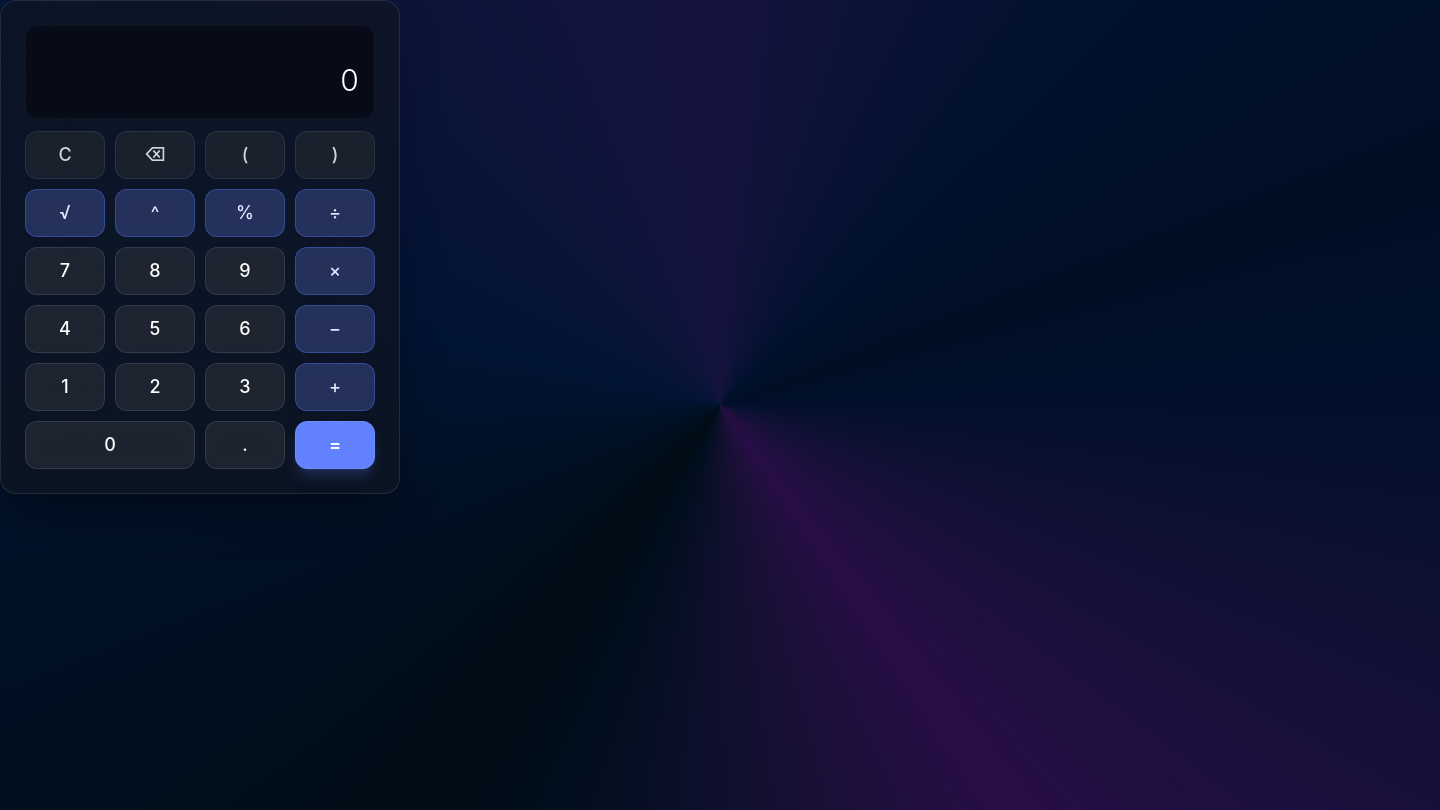
Scenario: Calculator › full calculation flow: 5 + 3 * 2 = 11
Click the button "5" at (155, 329), box x1=115 y1=305 x2=195 y2=353
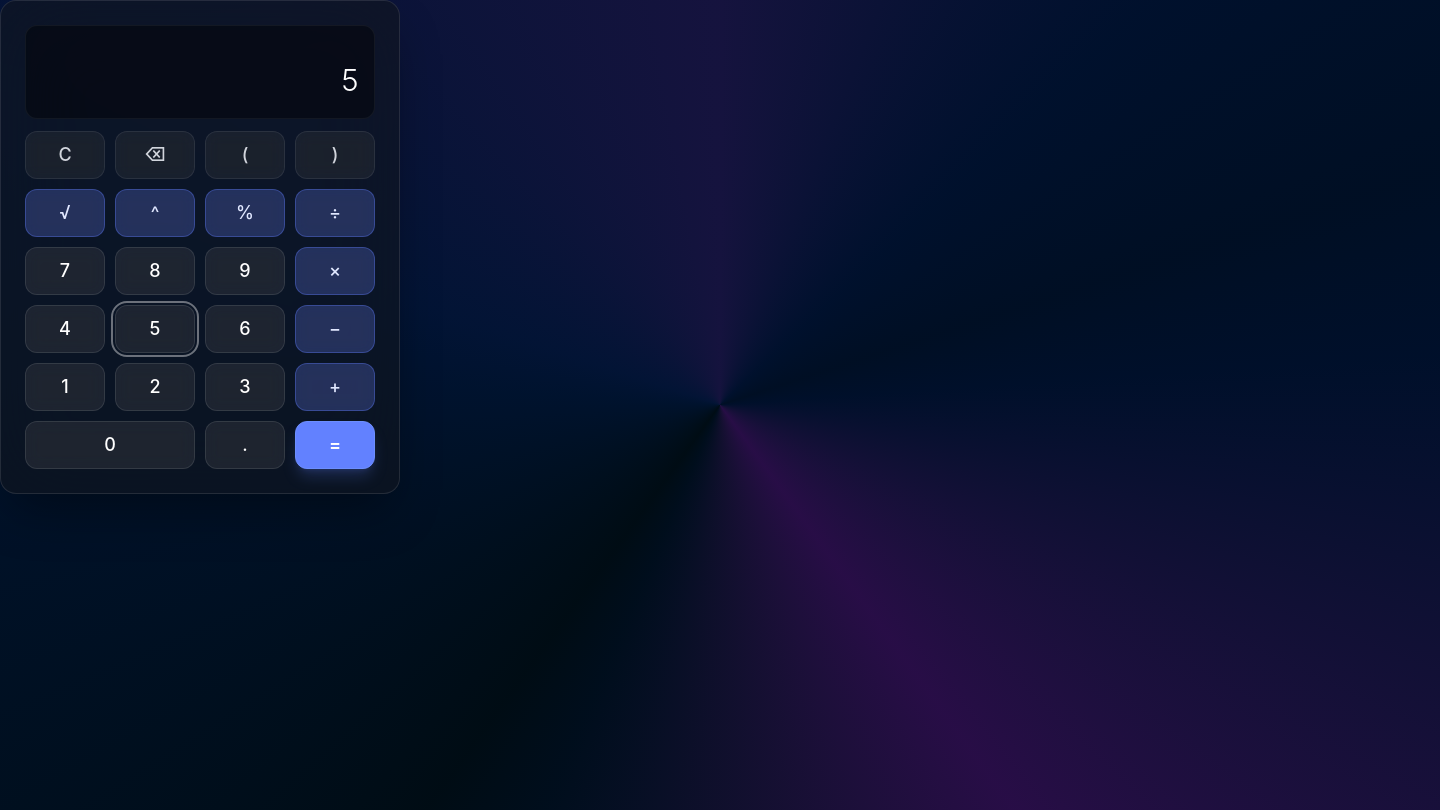
Click the button "+" at (335, 387), box x1=295 y1=363 x2=375 y2=411
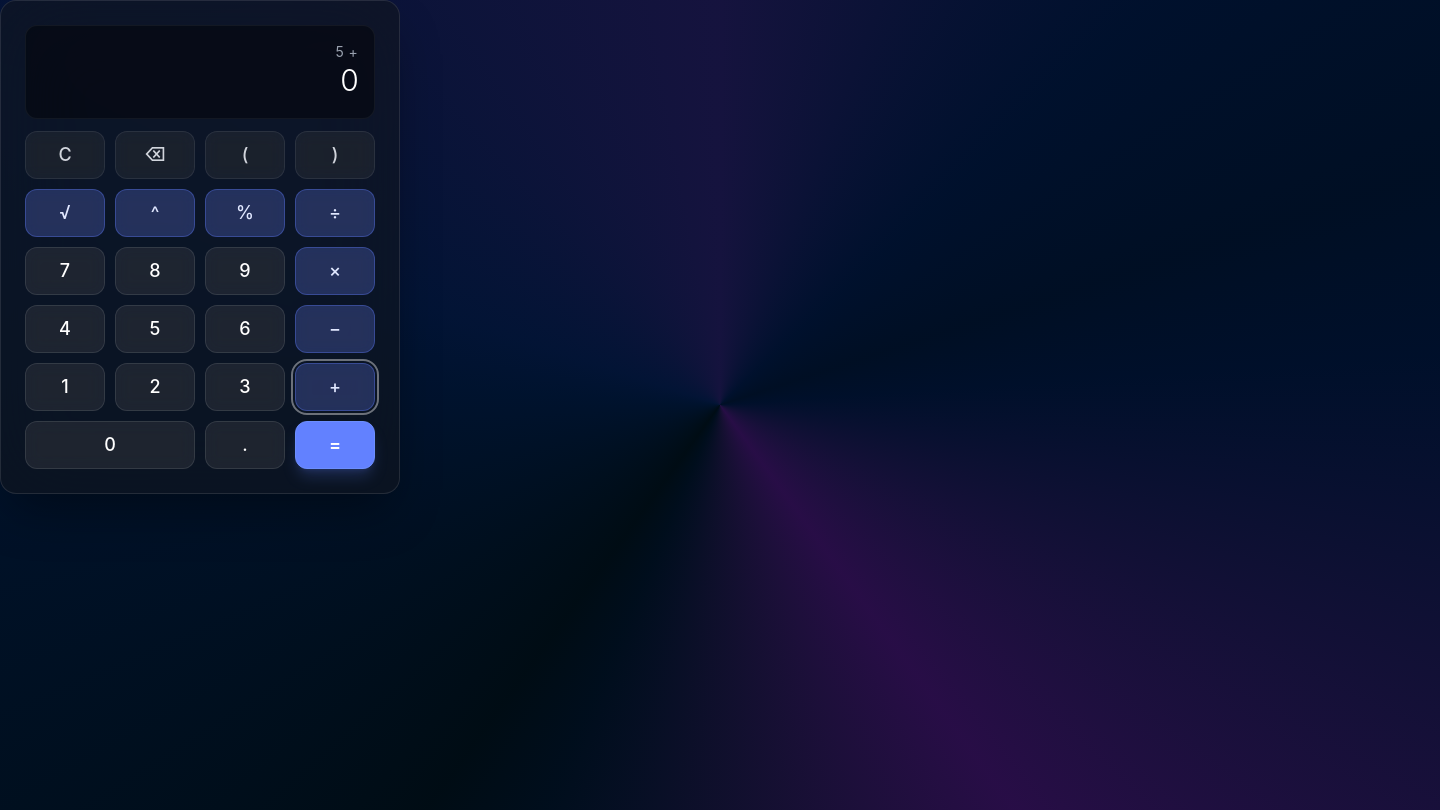
Click the button "3" at (245, 387), box x1=205 y1=363 x2=285 y2=411
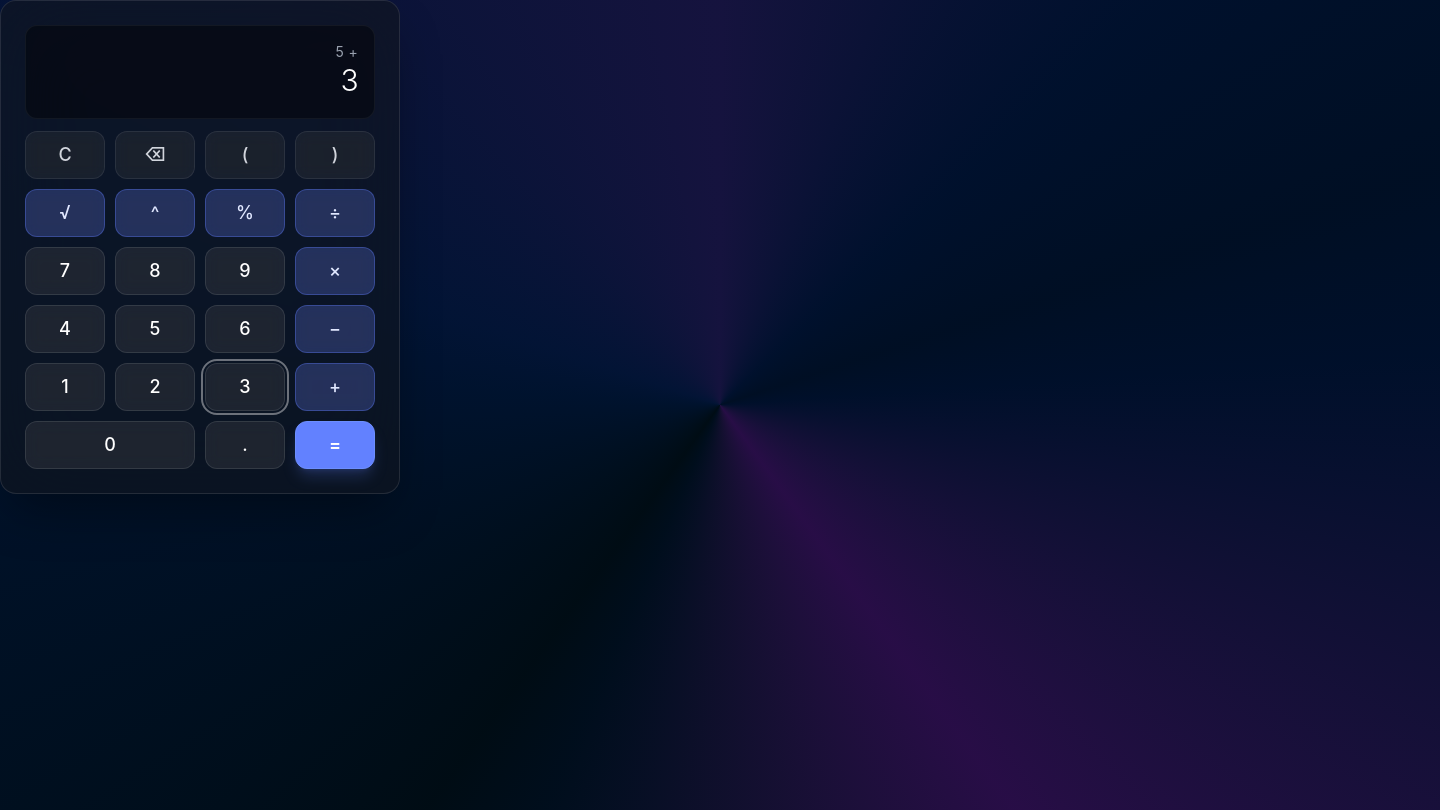
Click the button named "multiply" at (335, 271), box x1=295 y1=247 x2=375 y2=295
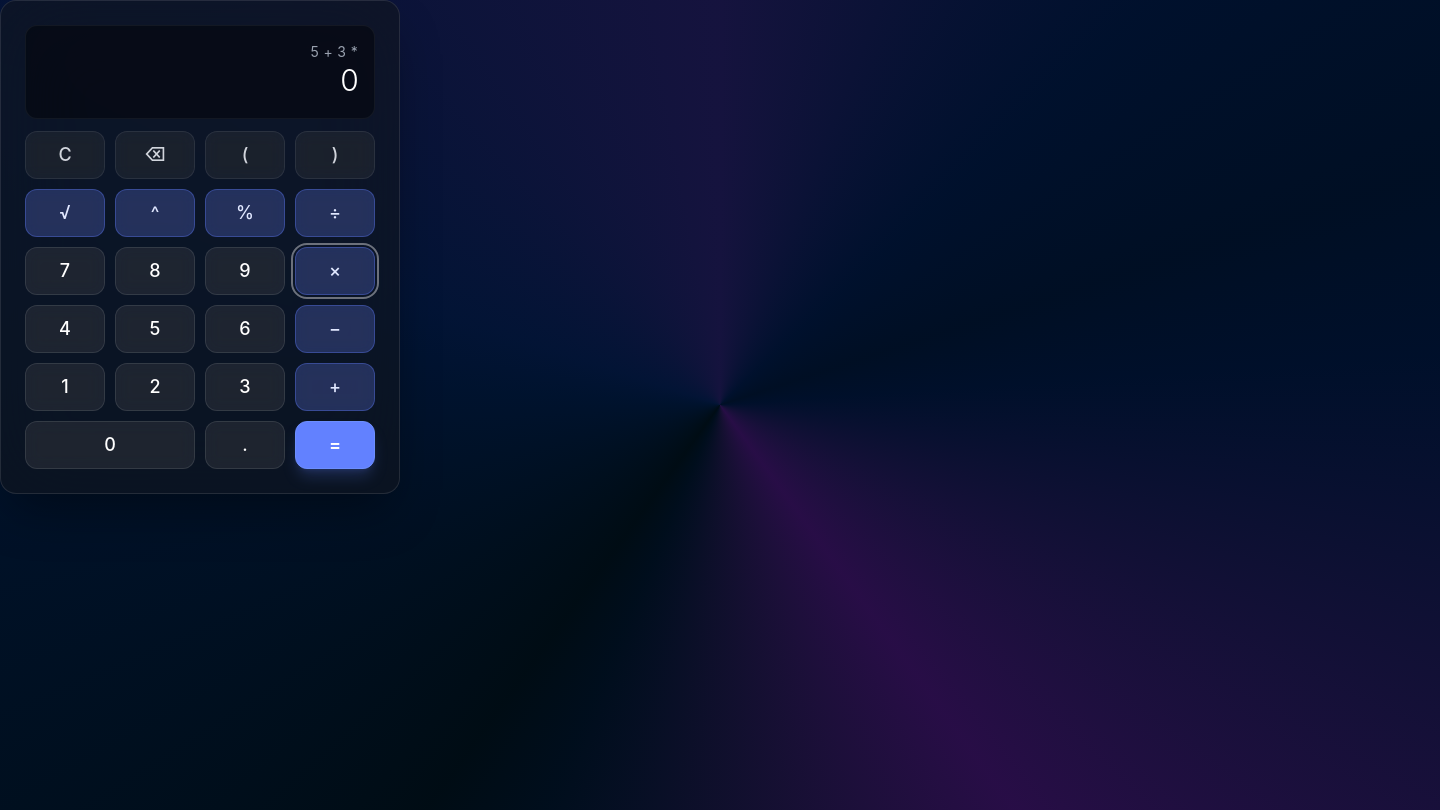
Click the button "2" at (155, 387), box x1=115 y1=363 x2=195 y2=411
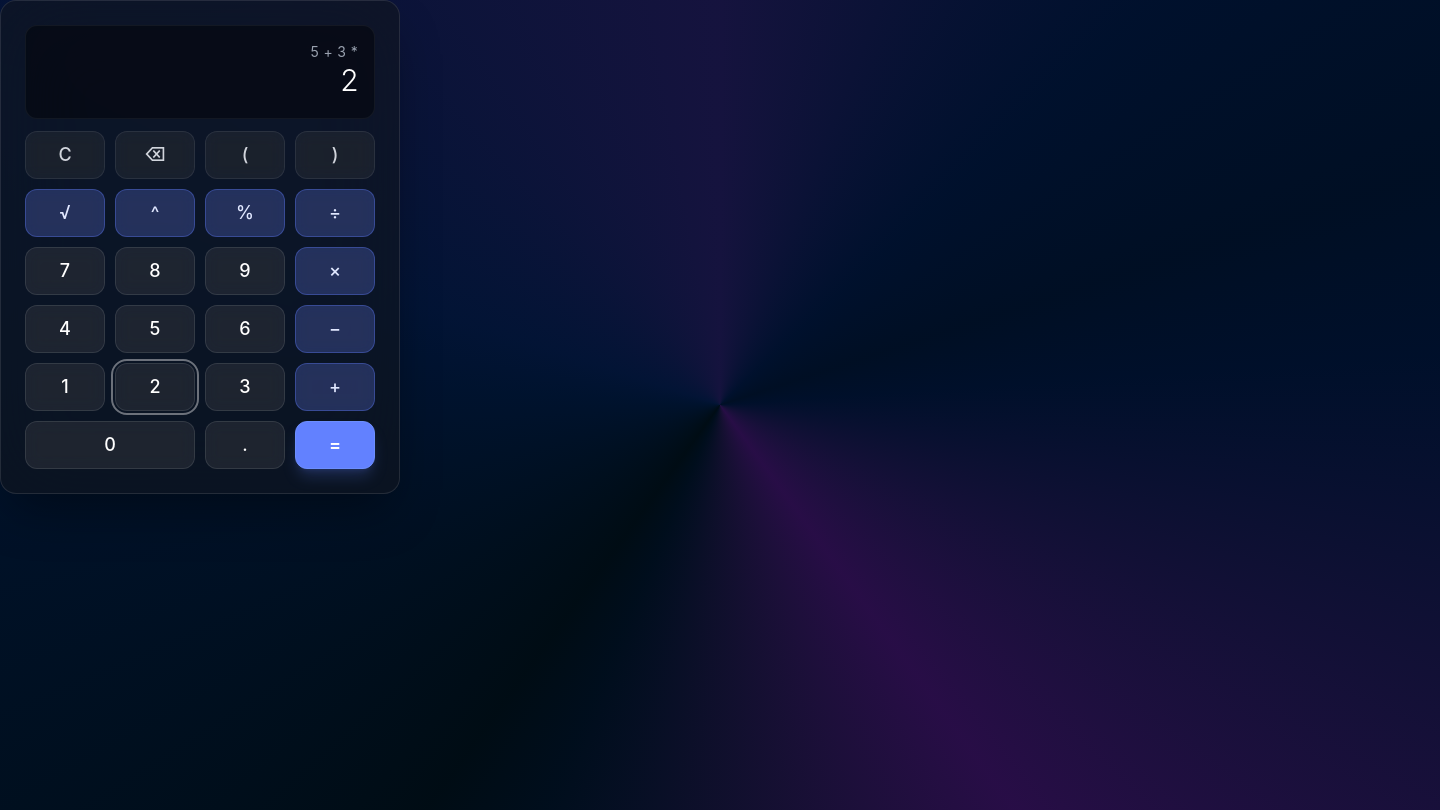
Click the button "=" at (335, 445), box x1=295 y1=421 x2=375 y2=469
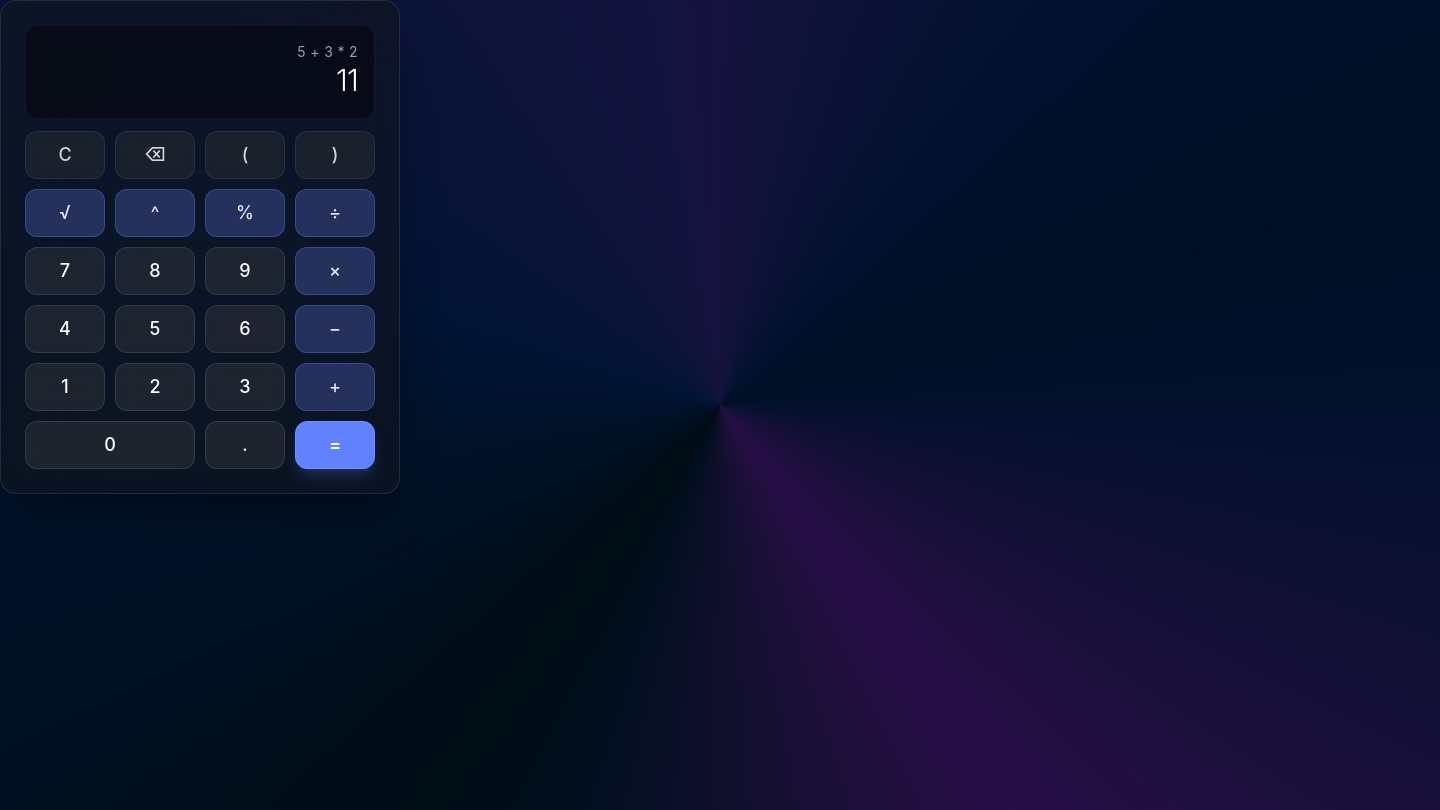
Expected: the text named "display value" reads "11", x1=336 y1=62 x2=358 y2=98
